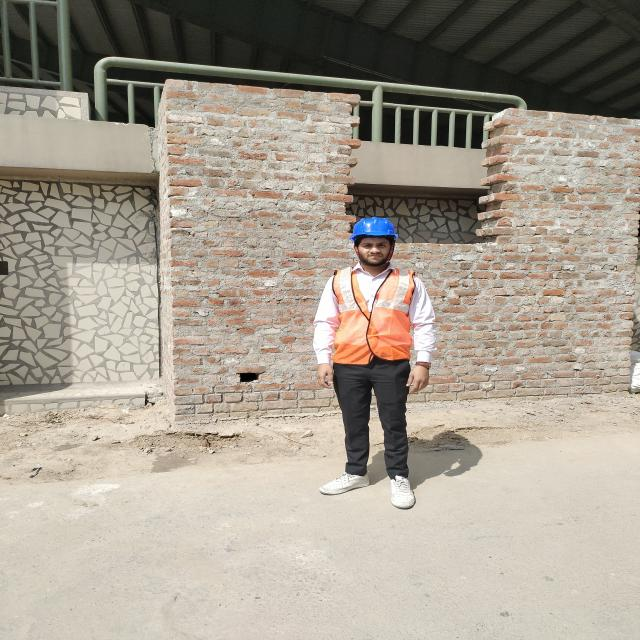safe: (319, 216, 431, 509)
